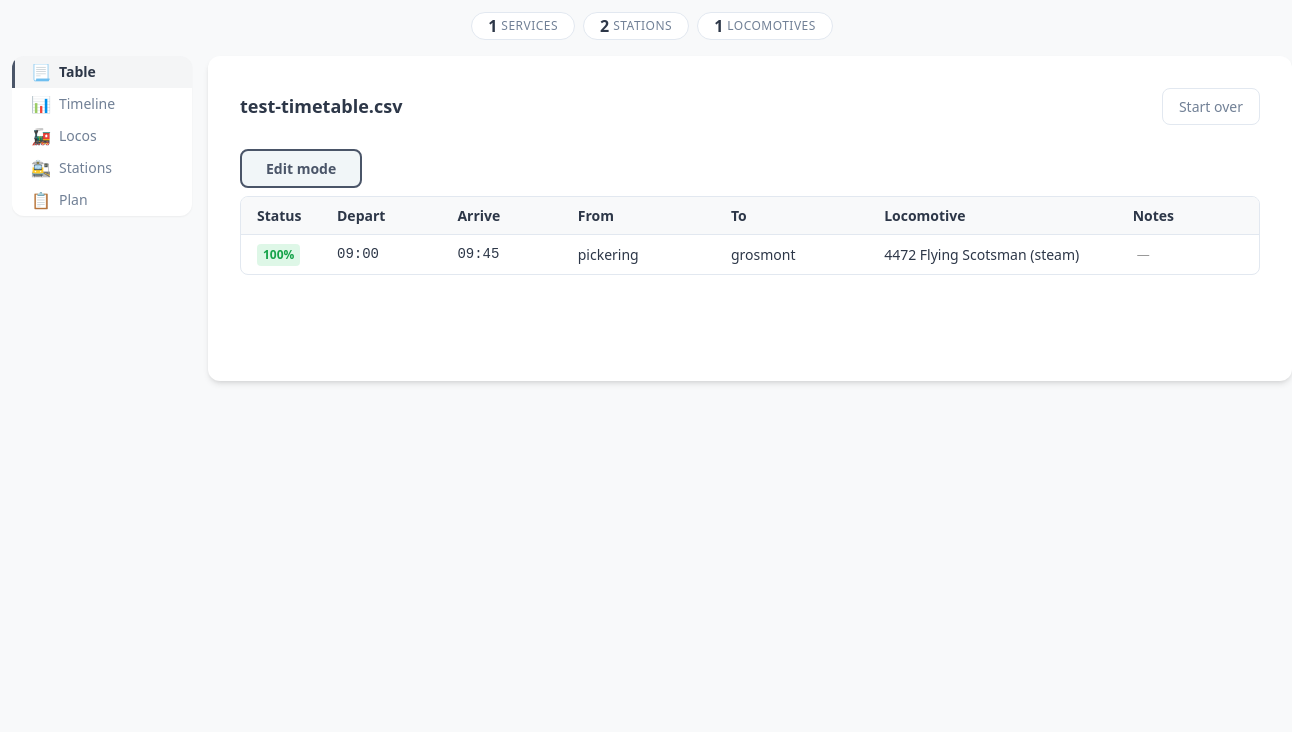
Scenario: ParsedPreview › shows plan controls and view tabs when services are present
Expected: the button "📃 Table" is shown, left=12, top=56, right=192, bottom=88
Expected: the button "📊 Timeline" is shown, left=12, top=88, right=192, bottom=120
Note: Plan controls appear when switching to Plan view
Click the button "📋 Plan" at (102, 200), box left=12, top=184, right=192, bottom=216
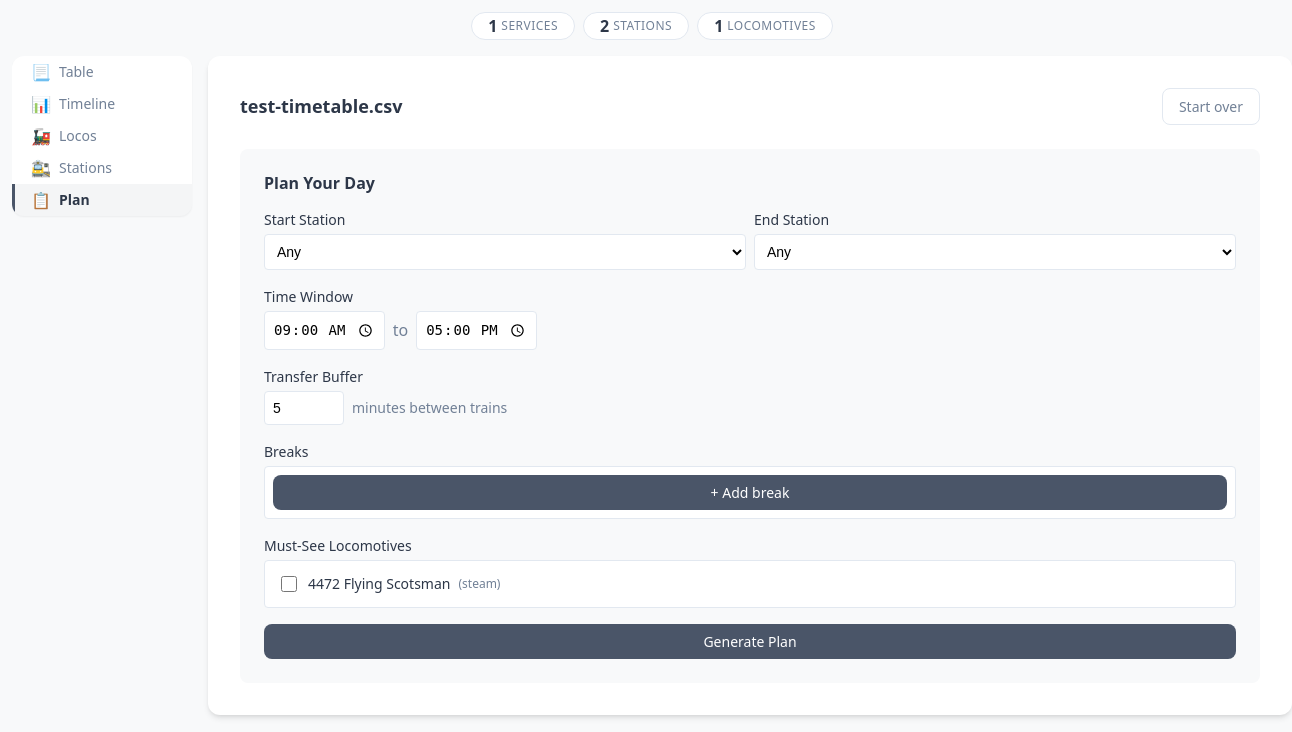
Now the heading "Plan Your Day" is shown, box left=264, top=172, right=375, bottom=194
Now the button "Generate Plan" is shown, box left=264, top=624, right=1236, bottom=659
